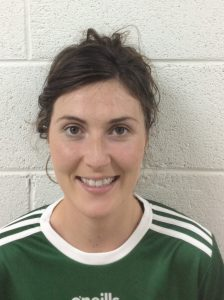player: (11, 31, 208, 294)
